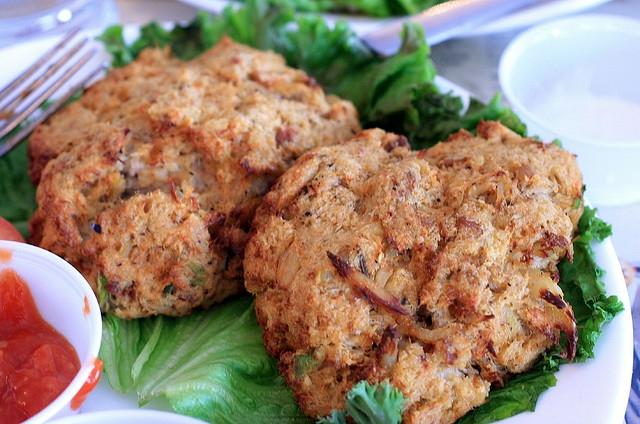onion: (326, 251, 410, 316), (538, 288, 568, 308), (382, 339, 398, 372)
